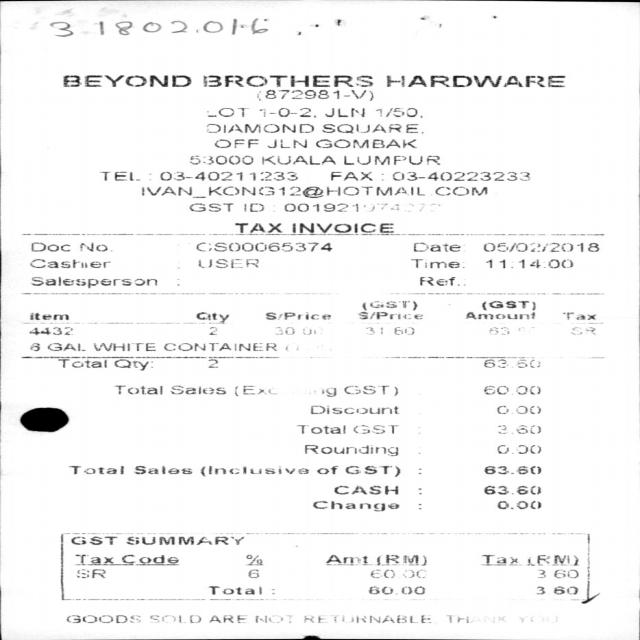text: (206, 186, 424, 198), (386, 75, 564, 87), (202, 74, 372, 86), (62, 74, 190, 86), (32, 276, 156, 288), (257, 89, 373, 101), (284, 203, 439, 211), (392, 171, 529, 180), (160, 171, 296, 180), (195, 242, 331, 251), (200, 465, 308, 476), (482, 242, 598, 252), (304, 444, 398, 456), (124, 536, 244, 545), (290, 222, 392, 232), (302, 614, 429, 622), (343, 155, 440, 165), (205, 123, 312, 132), (320, 124, 422, 133), (164, 342, 276, 350), (313, 501, 398, 511), (314, 139, 416, 147), (29, 258, 110, 268), (125, 553, 179, 568), (309, 405, 397, 414), (485, 259, 572, 268), (261, 155, 334, 165), (189, 155, 253, 165), (197, 258, 257, 268), (376, 554, 426, 566), (65, 614, 139, 622), (332, 485, 397, 494), (344, 385, 397, 396), (482, 358, 540, 368), (344, 466, 399, 476), (362, 300, 416, 310), (481, 300, 535, 310), (411, 258, 464, 268), (482, 385, 540, 394), (133, 465, 191, 474), (483, 485, 541, 494), (413, 242, 465, 252), (112, 358, 152, 371), (368, 585, 425, 594), (207, 585, 264, 594), (357, 311, 421, 319), (527, 554, 578, 564), (259, 108, 315, 117), (169, 385, 225, 394), (68, 465, 124, 474), (93, 342, 155, 350), (466, 312, 534, 319), (235, 385, 278, 396), (140, 186, 192, 195), (434, 187, 486, 196), (484, 466, 542, 474), (447, 615, 505, 623), (264, 312, 330, 319), (56, 359, 107, 368), (497, 444, 541, 454), (324, 554, 367, 564), (114, 385, 161, 394), (376, 108, 422, 117), (234, 223, 280, 232), (150, 614, 201, 622), (496, 500, 541, 509), (496, 405, 540, 414), (30, 242, 69, 252), (296, 425, 344, 433), (480, 554, 517, 564), (323, 108, 364, 117), (331, 171, 372, 180), (27, 312, 68, 321), (536, 569, 577, 578), (70, 536, 116, 544), (195, 311, 228, 322), (266, 139, 306, 148), (99, 171, 139, 180), (419, 276, 455, 286), (352, 425, 397, 433), (74, 554, 114, 563), (214, 139, 257, 147), (189, 203, 232, 211), (28, 326, 71, 334), (497, 425, 540, 433), (206, 108, 248, 116), (536, 586, 577, 594), (517, 614, 557, 622), (47, 342, 85, 350), (209, 614, 245, 622), (254, 615, 291, 622), (79, 242, 107, 251), (76, 569, 104, 578), (562, 312, 597, 319), (369, 569, 393, 578), (570, 327, 595, 335), (315, 465, 337, 474), (246, 554, 262, 565), (274, 326, 294, 334), (489, 327, 509, 335), (302, 327, 322, 335), (404, 569, 424, 577), (394, 326, 413, 334), (244, 203, 262, 211), (321, 387, 336, 396), (366, 327, 382, 335), (206, 359, 219, 368), (29, 342, 38, 351), (208, 326, 218, 334), (248, 569, 258, 577)
